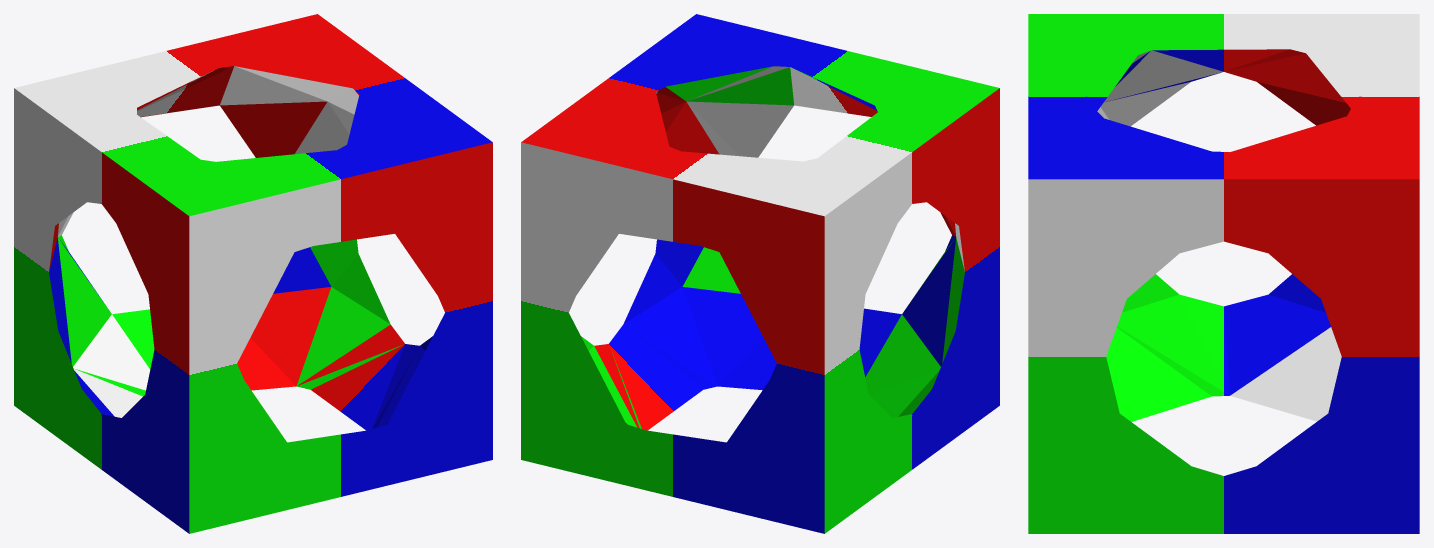
Rendered from boxHole.obj.
The picture shows the model from 3 angles, left to right: view 1: azimuth 30°, elevation 25°; view 2: azimuth 150°, elevation 25°; view 3: azimuth 270°, elevation 25°; orthographic projection. The views are drawn at different scales.
Parts seen in each view (by area): view 1: Box003; view 2: Box003; view 3: Box003.
Boxes of the visible parts, <box> form: Box003: <box>14,14,492,533</box>; Box003: <box>521,14,999,533</box>; Box003: <box>1028,14,1419,533</box>.
Bounding box in the file's own units: 1 × 1 × 1.
